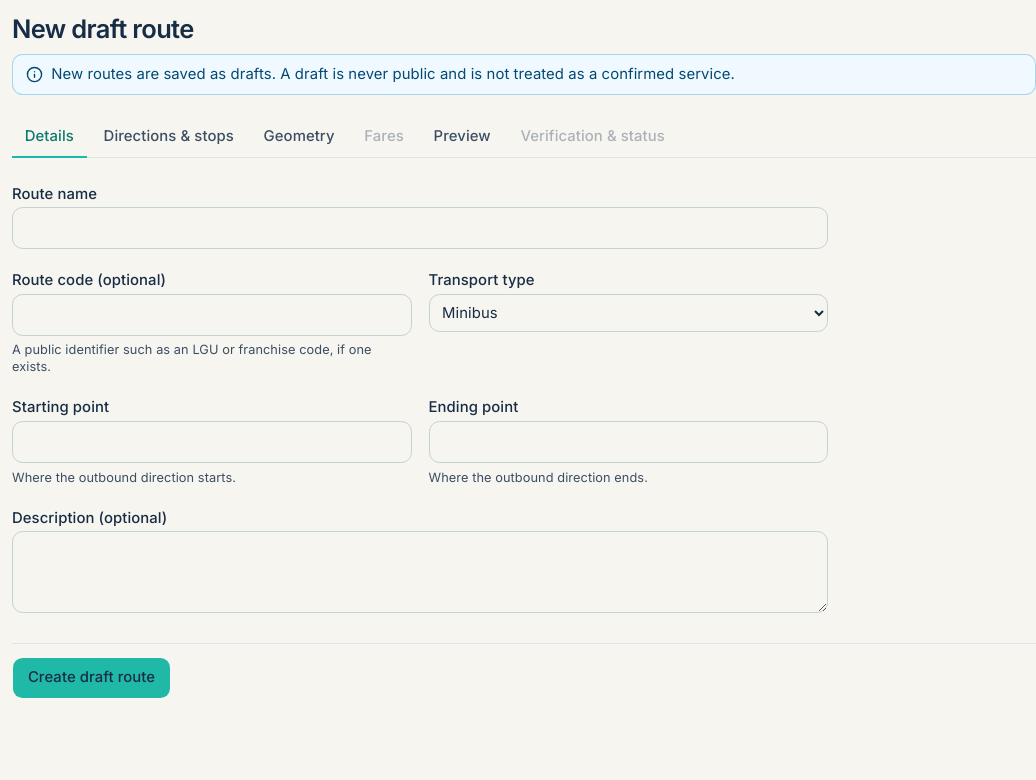
Scenario: a new route › shows a server error and stays put
Type "Fictional Route" into the field labelled "Route name" at (420, 228), box [12,207,828,249]
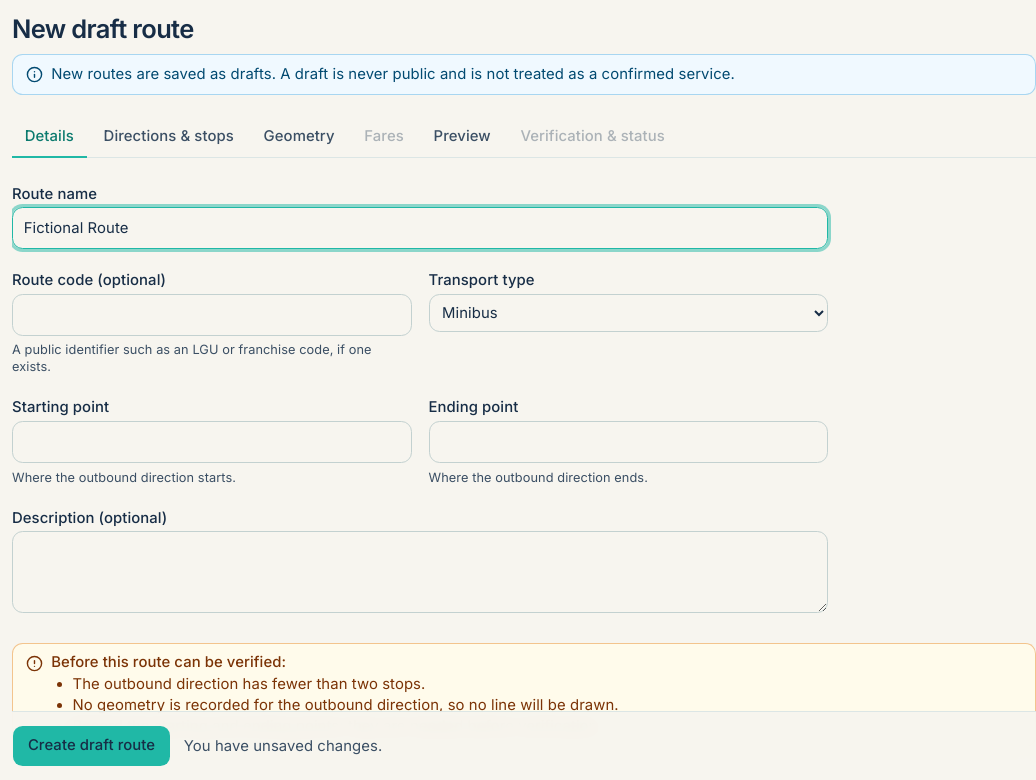
Click the button "Create draft route" at (92, 746), box [12,725,171,767]
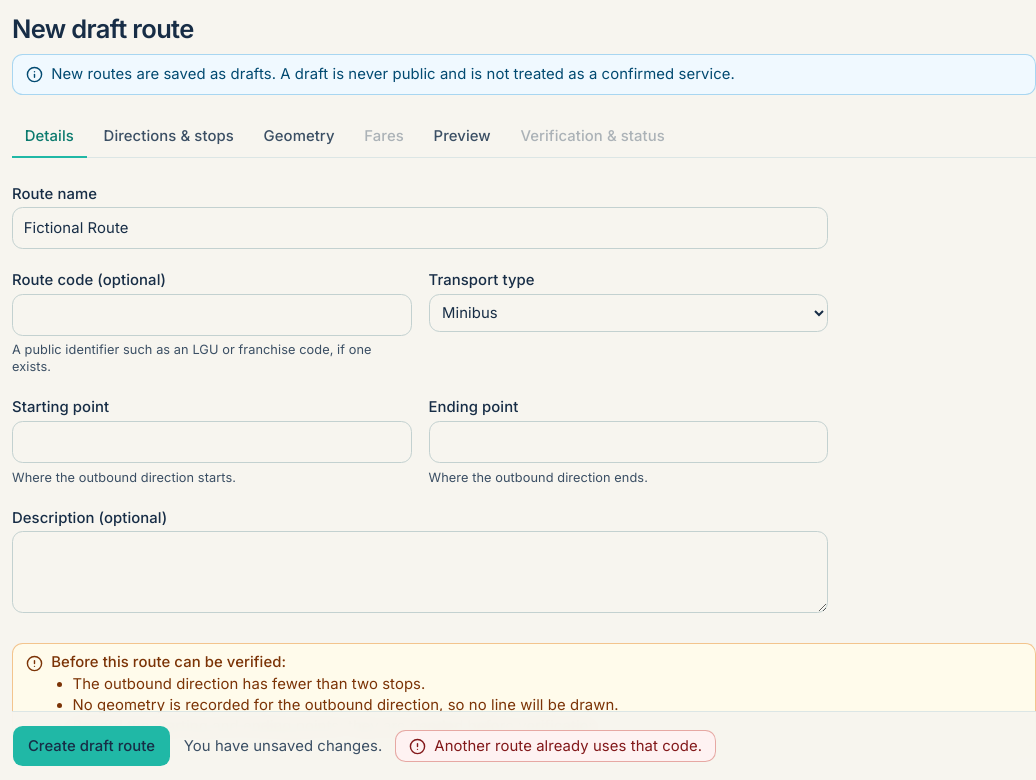
Expected: the text "Another route already uses that code." is shown, [434,735,702,757]
